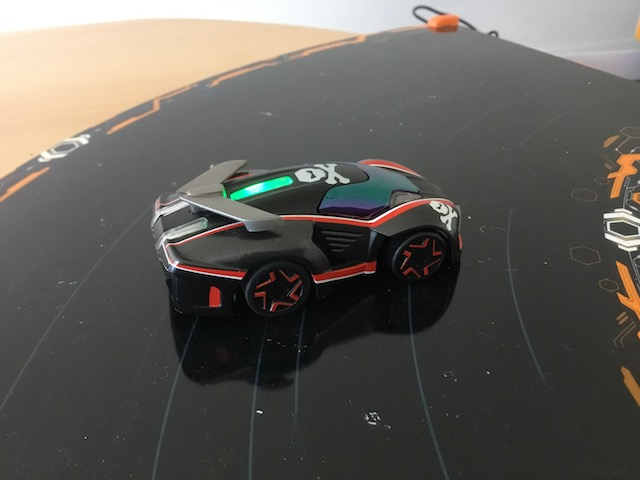car-red: (149, 156, 466, 326)
